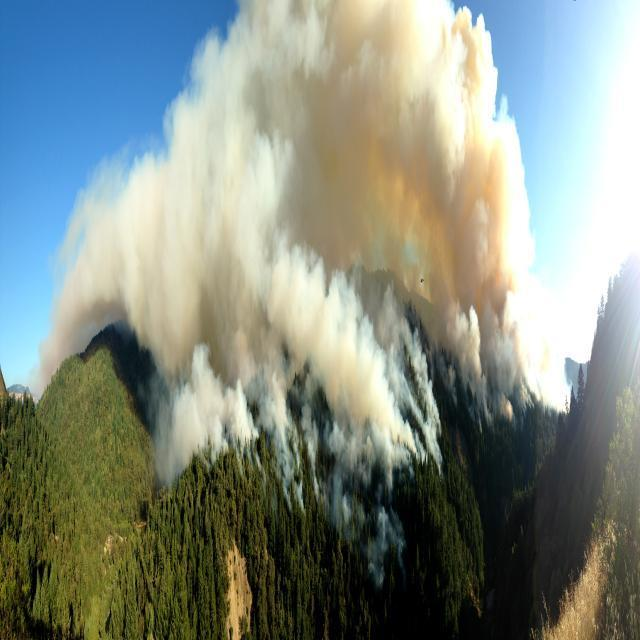Smoke: (156, 0, 535, 496), (36, 136, 156, 393)
